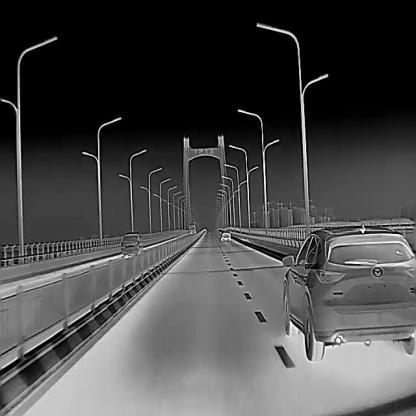car: (281, 223, 415, 361), (120, 233, 143, 254), (219, 231, 231, 241), (189, 220, 195, 233)
